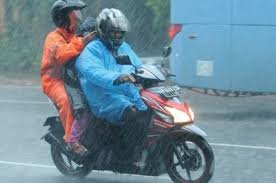motor: (27, 72, 227, 179)
